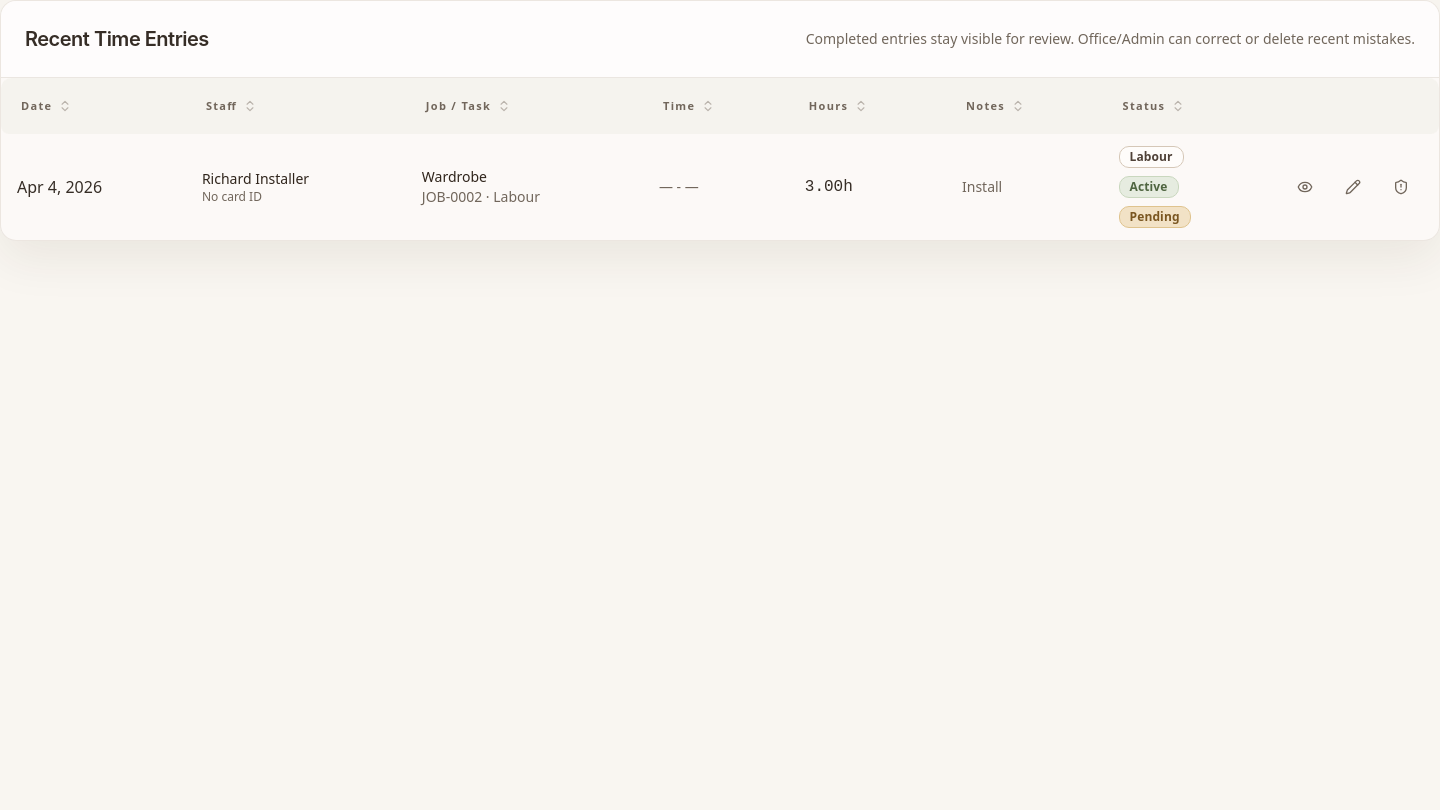
Test case: TimeEntryTable › shows validation errors instead of saving incomplete time entries
Click the button named "edit time entry for richard installer": (1353, 187) [1331,165,1375,209]
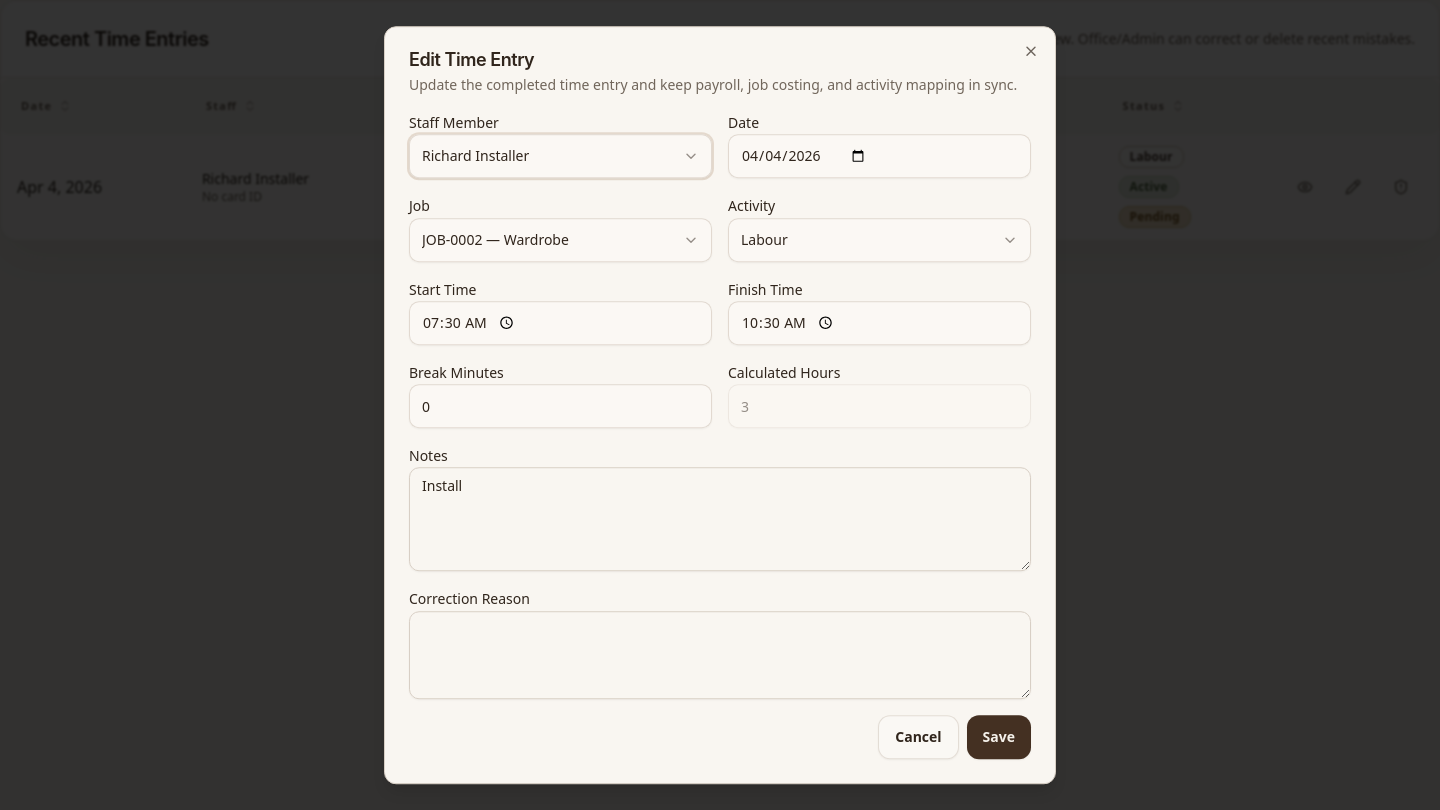
Clear the time field labelled "Start Time": (560, 323) [409,301,712,345]
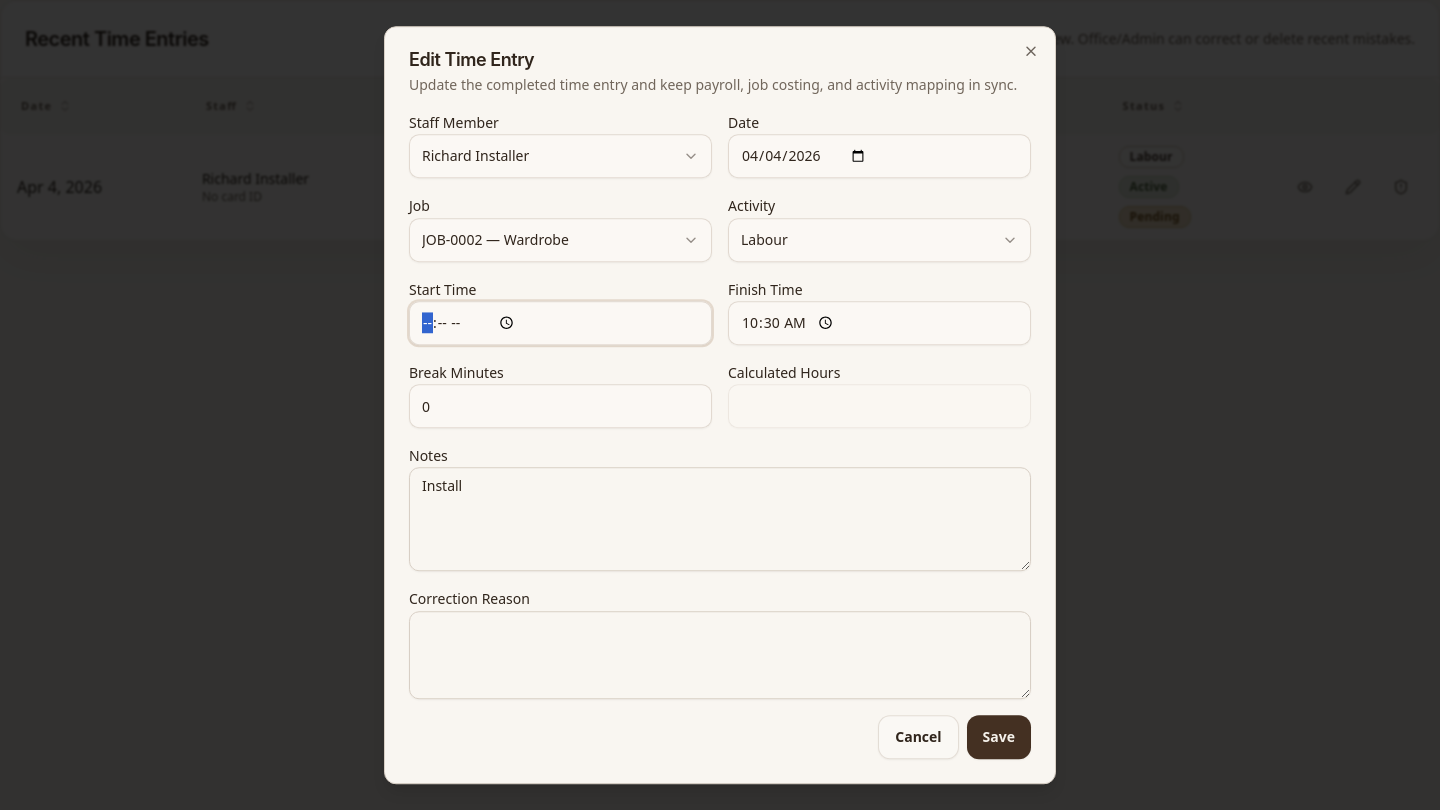
Click the button "Save": (999, 737) [967,715,1031,759]
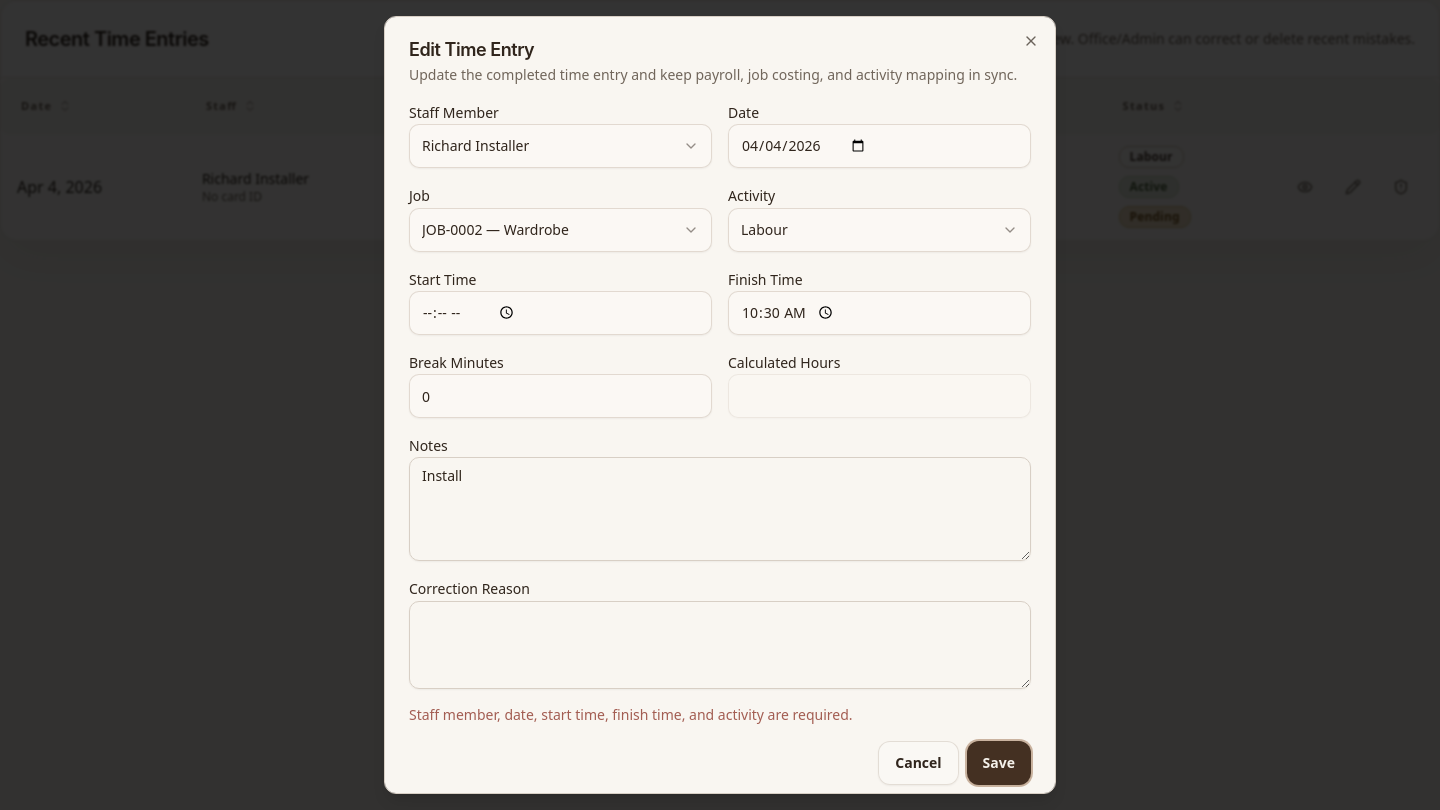
Check: the text "Staff member, date, start time, finish time, and activity are required." is shown, box [409,704,852,724]
